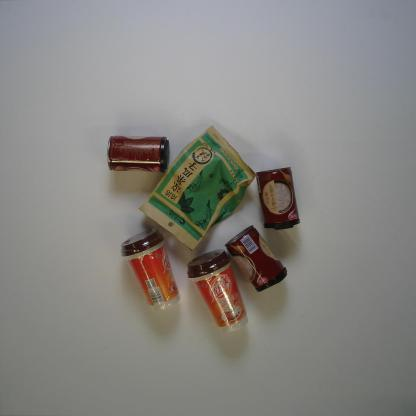Canned Food: (223, 224, 288, 292), (255, 166, 301, 232), (106, 134, 170, 174)
Dried Food: (138, 124, 258, 252)
Instant Drink: (186, 248, 249, 333), (119, 227, 182, 312)
